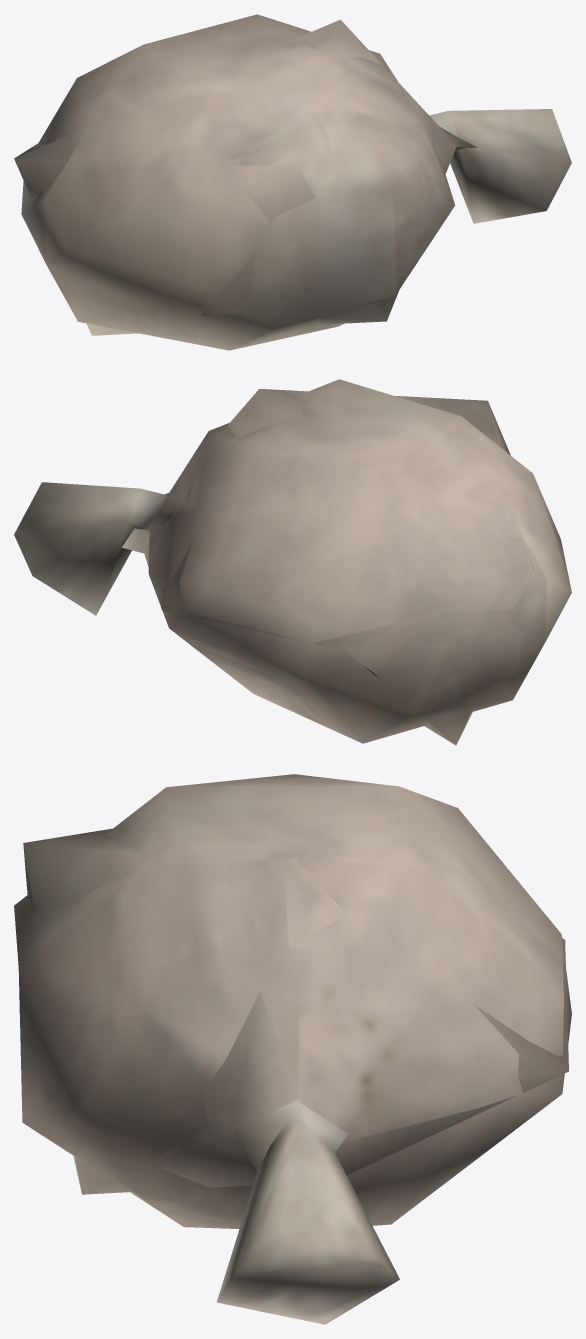
Rendered from garbage_plasticbag.dae.
3 renders of one model, top to bottom at view 1: azimuth 30°, elevation 25°; view 2: azimuth 150°, elevation 25°; view 3: azimuth 270°, elevation 25°, orthographic. The views are drawn at different scales.
Visible parts, largest first — view 1: garbage_plasticbag_a100, garbage_plasticbag_a50; view 2: garbage_plasticbag_a100, garbage_plasticbag_a50; view 3: garbage_plasticbag_a100, garbage_plasticbag_a50.
Boxes of the visible parts, left/top/right/bottom form: garbage_plasticbag_a100: left=21, top=14, right=571, bottom=350; garbage_plasticbag_a50: left=14, top=19, right=477, bottom=335; garbage_plasticbag_a100: left=14, top=379, right=571, bottom=743; garbage_plasticbag_a50: left=122, top=389, right=533, bottom=745; garbage_plasticbag_a100: left=14, top=774, right=571, bottom=1324; garbage_plasticbag_a50: left=23, top=828, right=568, bottom=1194.
Size of the model in its own units: 0.5174 by 0.347 by 0.2718.
1 material, 1 textured.
